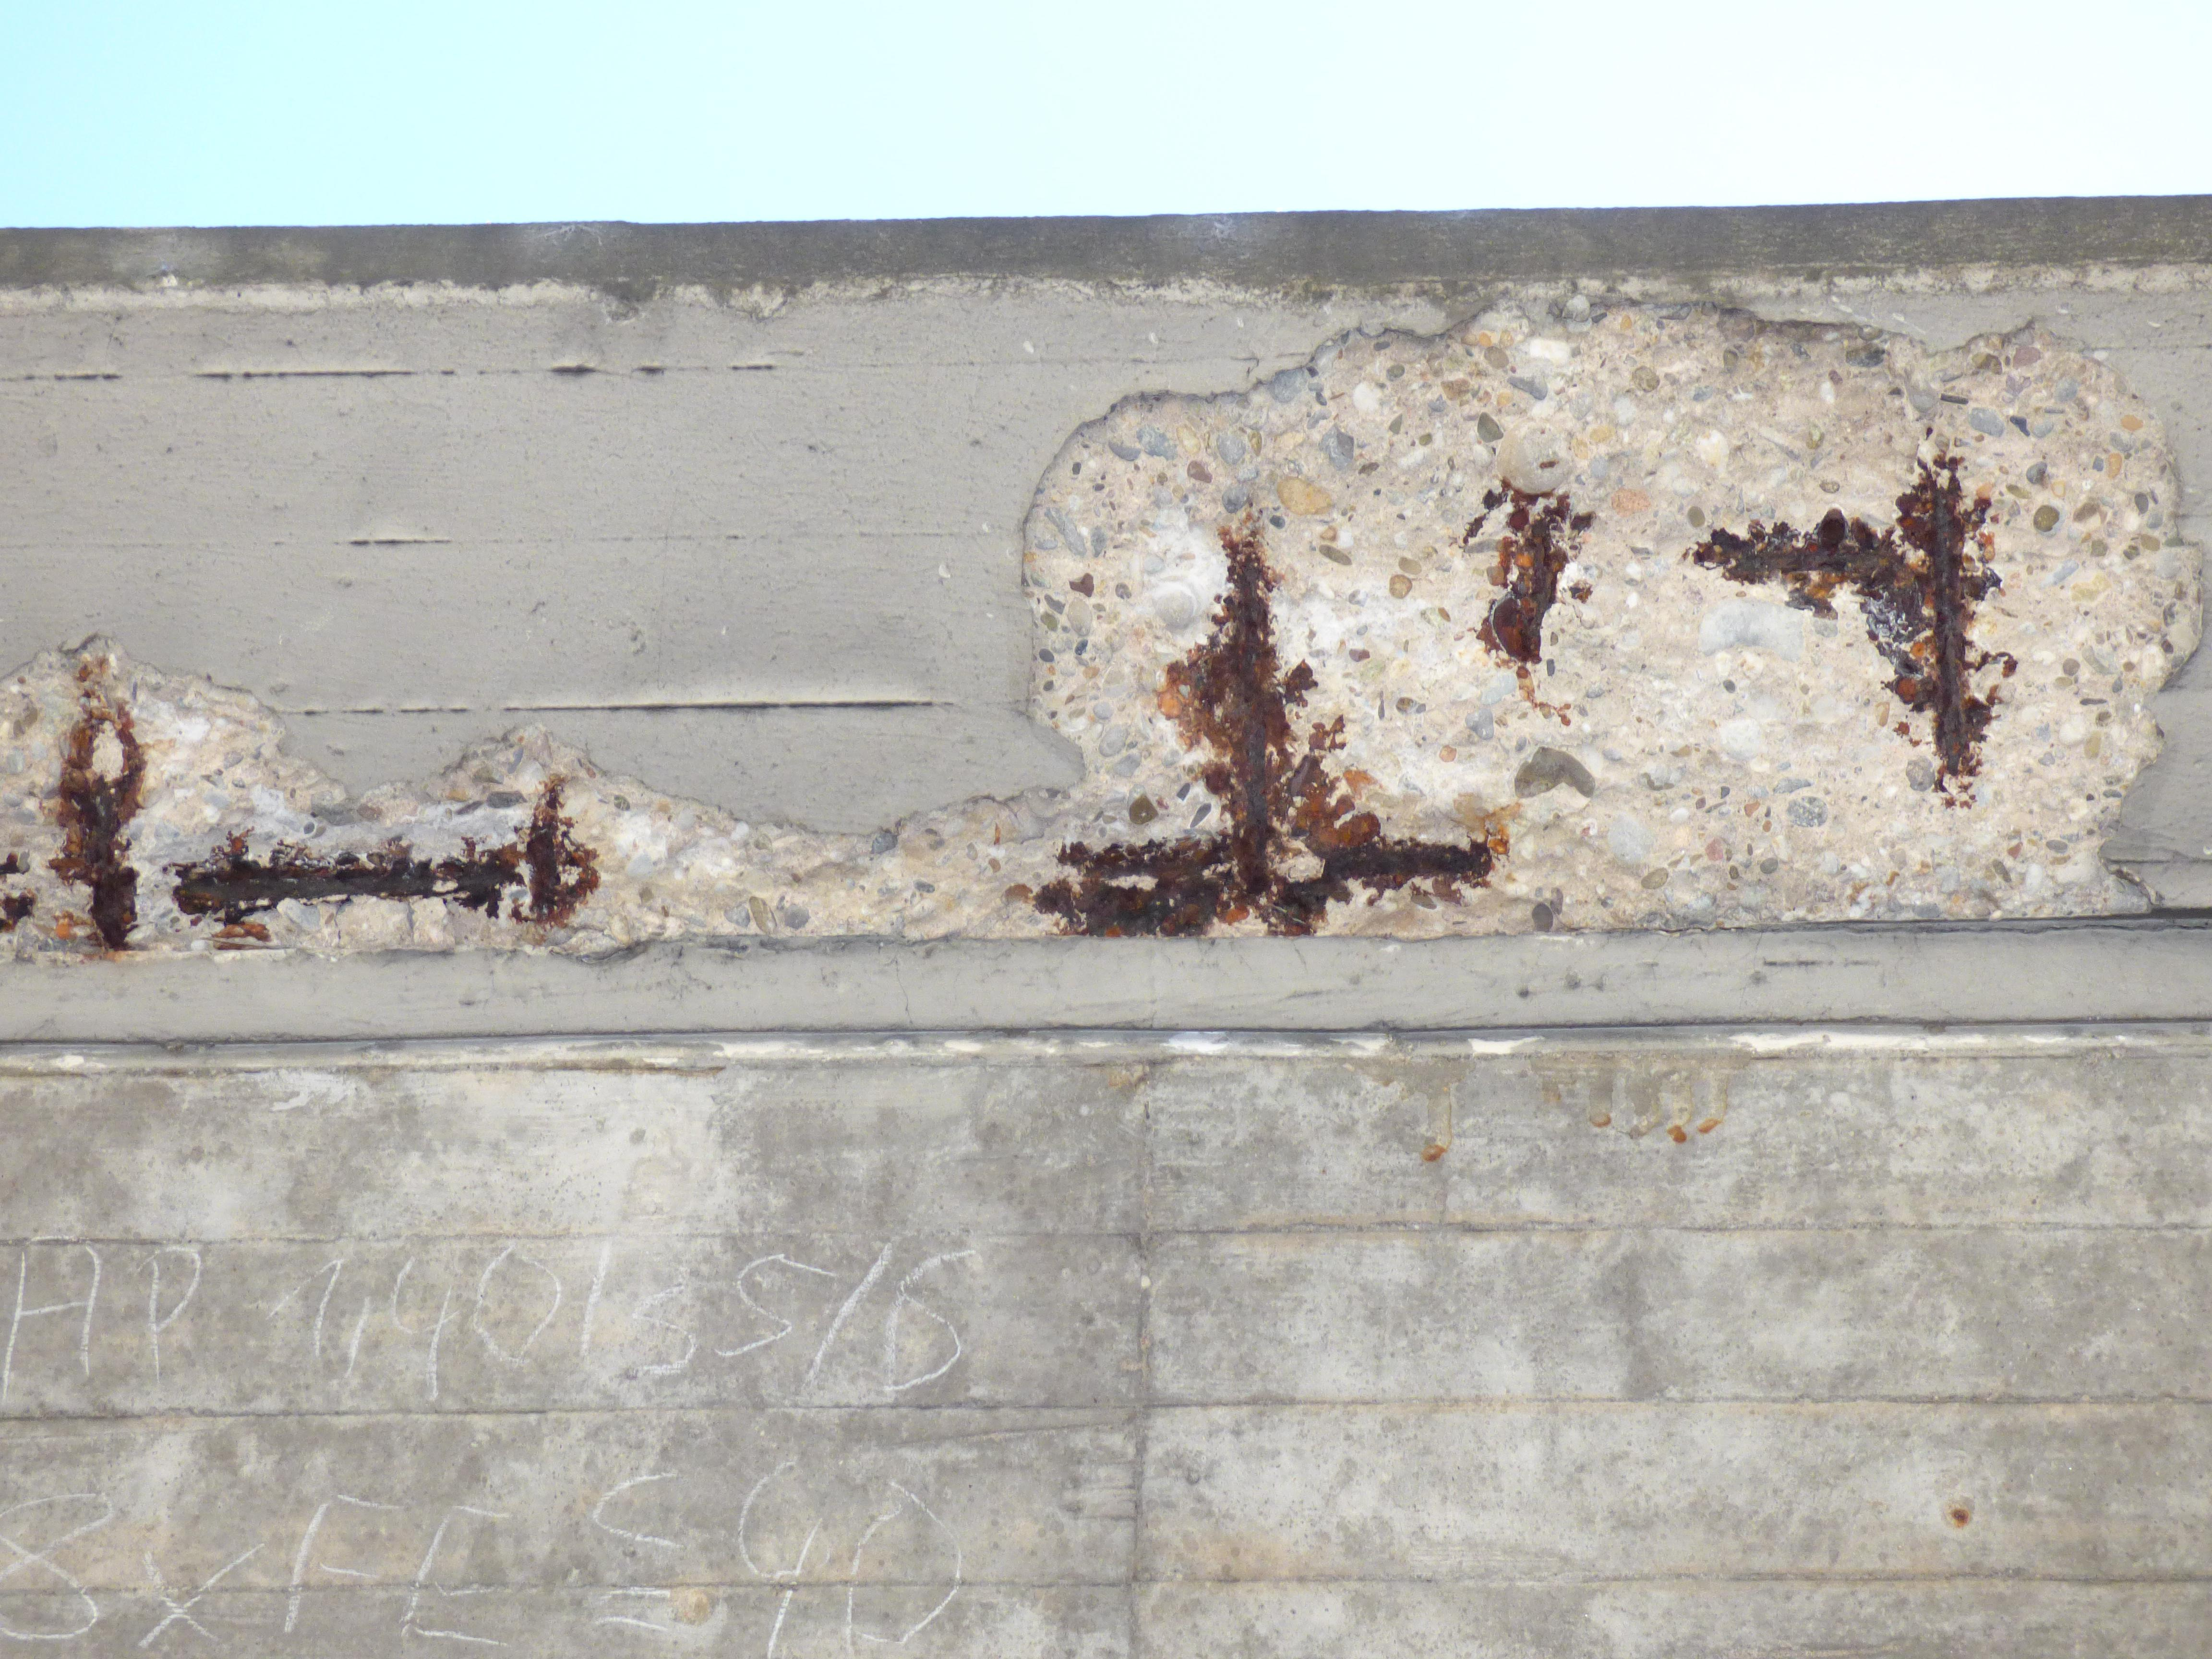rebar: (1188, 535, 1305, 892), (64, 676, 150, 943), (172, 854, 512, 915), (1487, 484, 1587, 676), (1075, 842, 1494, 884), (1921, 467, 1975, 770), (1038, 884, 1318, 934), (526, 784, 599, 922), (1707, 538, 1900, 580)
spall: (1024, 303, 2212, 941), (0, 633, 1026, 969)
